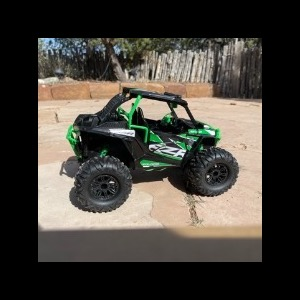polaris: (65, 86, 241, 215)
